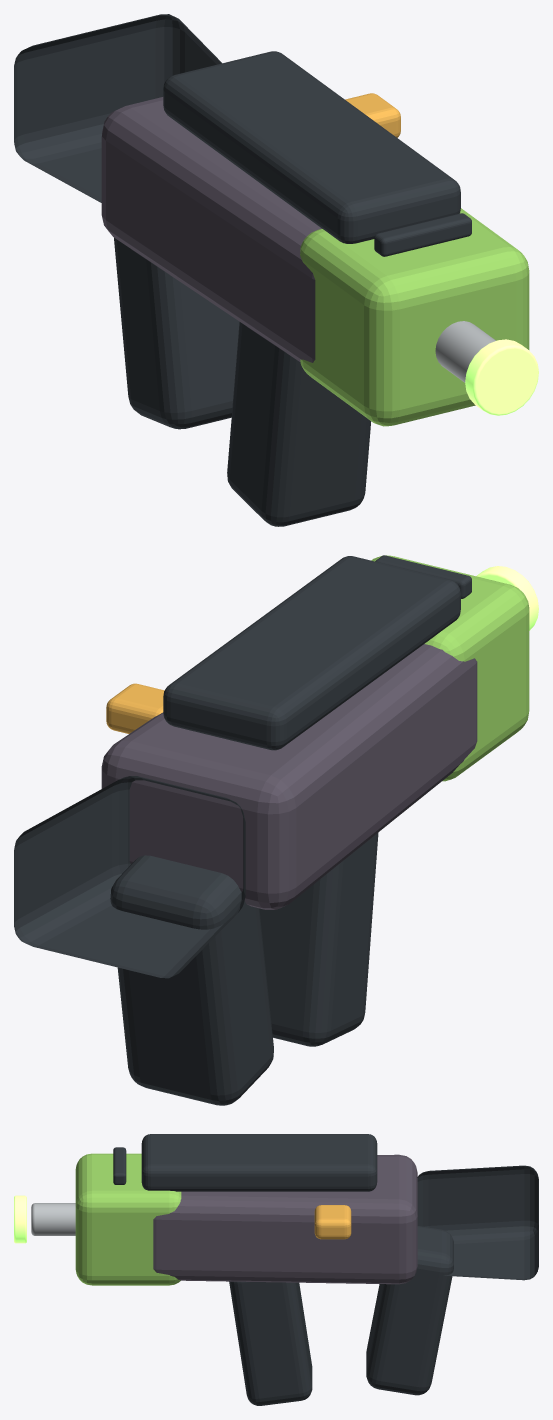
Rendered from smg.glb.
3 renders of one model, top to bottom at view 1: azimuth 30°, elevation 25°; view 2: azimuth 150°, elevation 25°; view 3: azimuth 270°, elevation 25°, orthographic. The views are drawn at different scales.
Parts seen in each view (by area): view 1: Body, FrontShroud, TopRail, Magazine, StubStock, Grip, SMGMuzzleGlow, ShroudVent.001, SMGBarrel, ChargingHandle; view 2: Body, TopRail, Grip, StubStock, Magazine, FrontShroud, ChargingHandle, SMGMuzzleGlow, ShroudVent.001; view 3: Body, TopRail, StubStock, FrontShroud, Grip, Magazine, SMGBarrel, ChargingHandle, SMGMuzzleGlow, ShroudVent.001.
Part boxes in pixels (<box>): Body: <box>101,97,321,362</box>; FrontShroud: <box>300,208,529,426</box>; TopRail: <box>163,51,460,243</box>; Magazine: <box>227,322,371,526</box>; StubStock: <box>14,14,221,202</box>; Grip: <box>114,238,239,429</box>; SMGMuzzleGlow: <box>465,339,538,415</box>; ShroudVent.001: <box>374,213,471,256</box>; SMGBarrel: <box>435,321,495,382</box>; ChargingHandle: <box>345,93,400,137</box>; Body: <box>101,644,477,909</box>; TopRail: <box>163,556,460,750</box>; Grip: <box>110,855,273,1105</box>; StubStock: <box>14,776,245,978</box>; Magazine: <box>259,832,378,1046</box>; FrontShroud: <box>371,555,529,781</box>; ChargingHandle: <box>106,683,164,733</box>; SMGMuzzleGlow: <box>476,566,538,630</box>; ShroudVent.001: <box>375,555,471,598</box>; Body: <box>153,1154,417,1284</box>; TopRail: <box>141,1134,377,1191</box>; StubStock: <box>417,1165,538,1280</box>; FrontShroud: <box>75,1153,181,1285</box>; Grip: <box>366,1226,453,1395</box>; Magazine: <box>229,1281,312,1405</box>; SMGBarrel: <box>31,1203,75,1235</box>; ChargingHandle: <box>314,1205,351,1239</box>; SMGMuzzleGlow: <box>14,1195,26,1243</box>; ShroudVent.001: <box>113,1147,126,1184</box>.
Size of the model in its own units: 0.458 by 0.7356 by 1.43.
